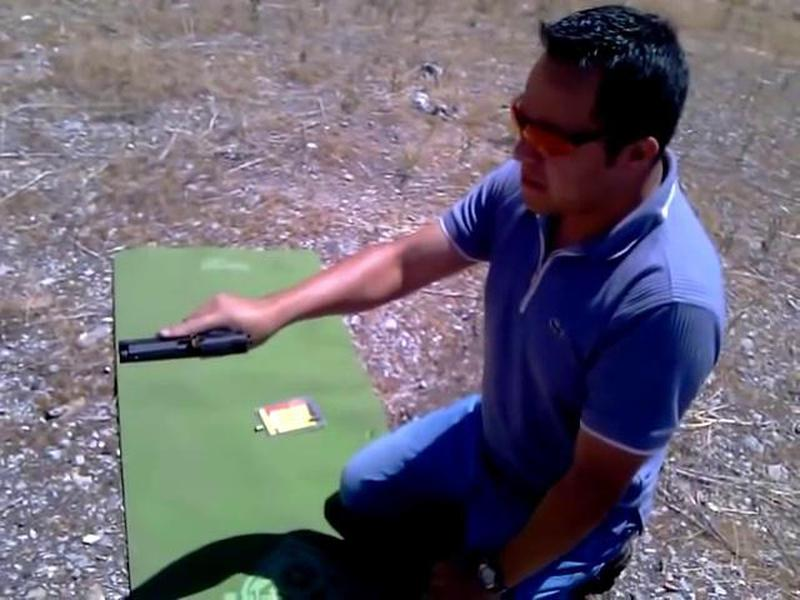Pistola: (105, 317, 267, 381)
